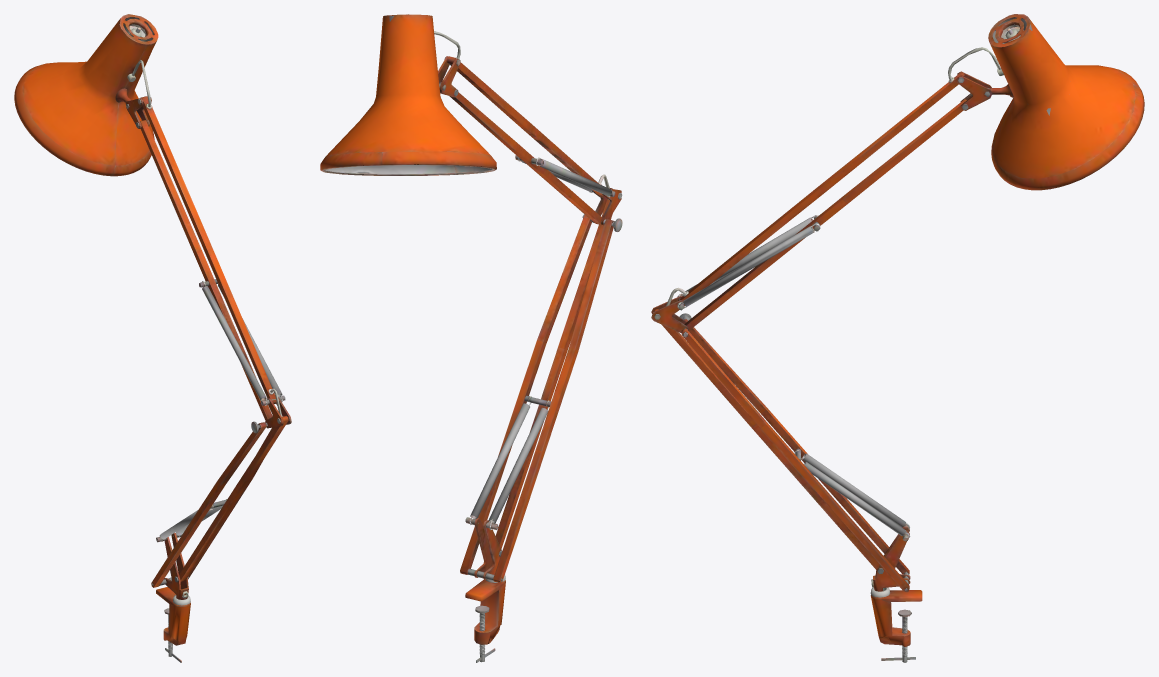
Rendered from desk-lamp.glb.
The picture shows the model from 3 angles, left to right: view 1: azimuth 30°, elevation 25°; view 2: azimuth 150°, elevation 25°; view 3: azimuth 270°, elevation 25°; orthographic projection. The views are drawn at different scales.
Parts seen in each view (by area): view 1: desk_lamp_arm_01; view 2: desk_lamp_arm_01; view 3: desk_lamp_arm_01.
Part boxes in pixels (left/top/right/bottom): desk_lamp_arm_01: left=14, top=14, right=291, bottom=662; desk_lamp_arm_01: left=320, top=14, right=622, bottom=662; desk_lamp_arm_01: left=651, top=14, right=1144, bottom=662.
Bounding box in the file's own units: 0.2017 × 0.8926 × 0.6139.
2 materials, 2 textured.
